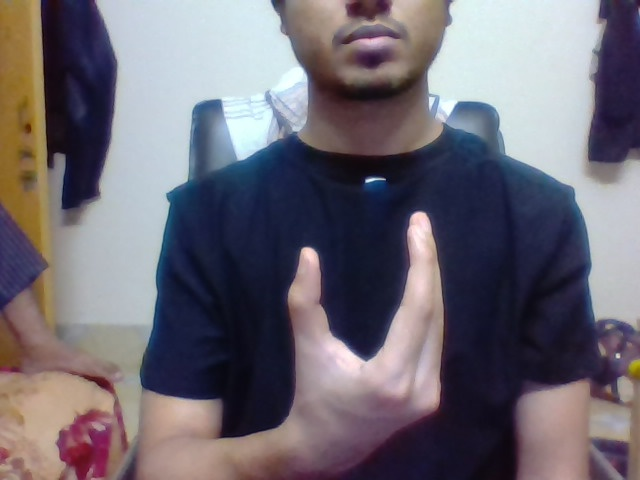U: (259, 193, 481, 384)
